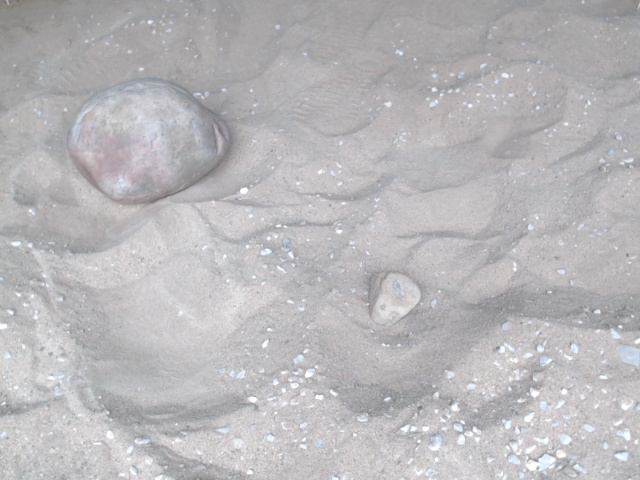rock: (63, 72, 235, 208), (364, 266, 425, 330)
